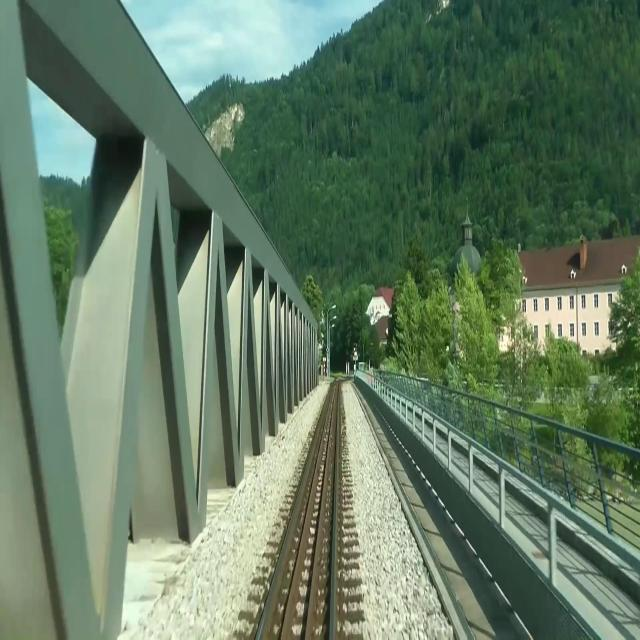rail-track: (261, 380, 337, 639)
